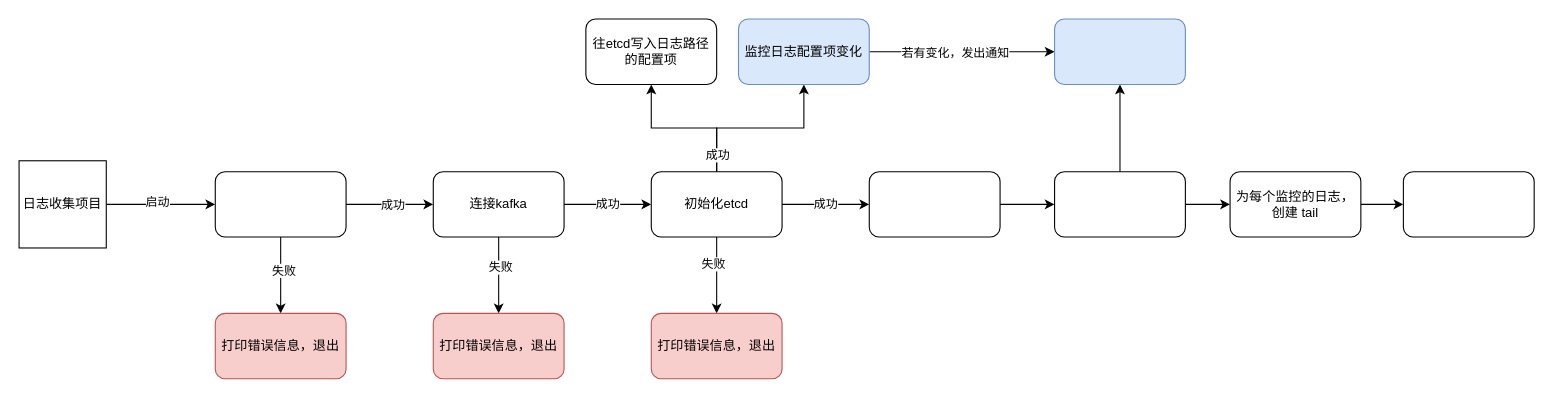
Some shapes in this 1553 by 398 pixel diagram are drawn without their labels. Each missing label, with the centre of its shape:
"N个tail开启收集任务" goes at point 1468,204.
"创建一个 tailManager 管理所有的 tail" goes at point 1119,204.
"拉取日志收集配置项" goes at point 934,204.
"根据最新的日志配置项，或开启新任务，或结束旧任务" goes at point 1119,51.
"读取配置文件" goes at point 280,204.
